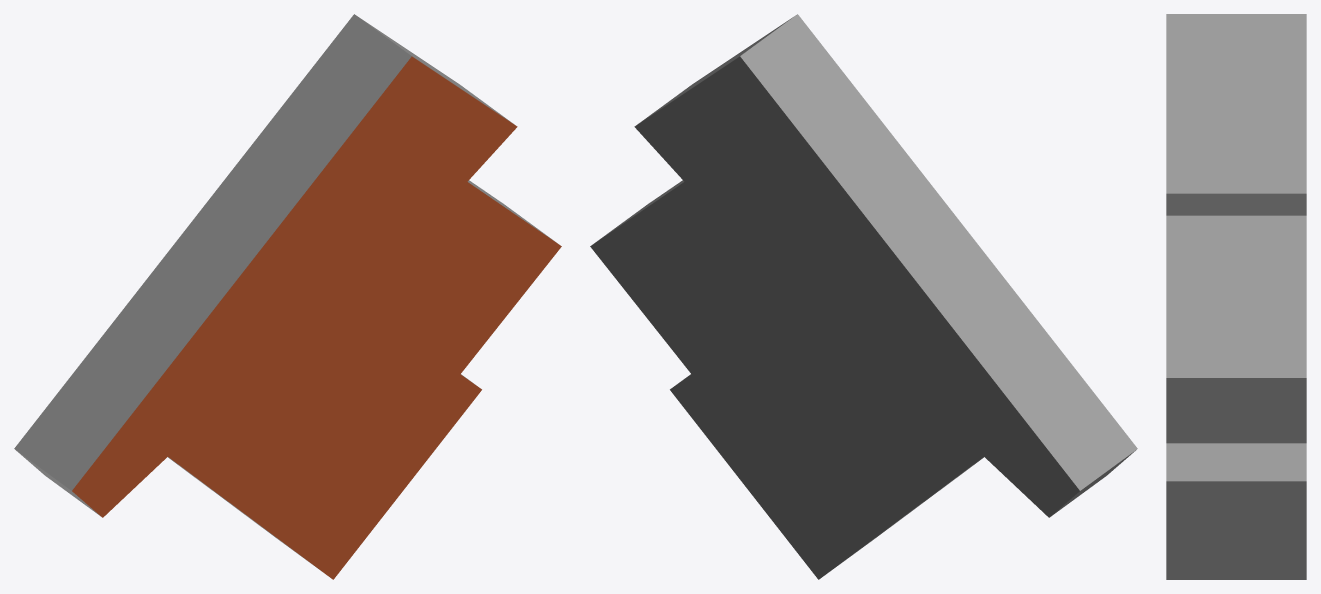
Rendered from construction_2106_assumed_A_Casa_h6m.obj.
3 renders of one model, left to right at view 1: azimuth 30°, elevation 25°; view 2: azimuth 150°, elevation 25°; view 3: azimuth 270°, elevation 25°, orthographic. The views are drawn at different scales.
Visible parts, largest first — view 1: construction_2106_assumed_A_Casa; view 2: construction_2106_assumed_A_Casa; view 3: construction_2106_assumed_A_Casa.
Part boxes in pixels (bbox=[...]): construction_2106_assumed_A_Casa: bbox=[14, 14, 561, 579]; construction_2106_assumed_A_Casa: bbox=[590, 14, 1137, 579]; construction_2106_assumed_A_Casa: bbox=[1166, 14, 1306, 579].
Bounding box in the file's own units: 29.41 × 28.94 × 6.
